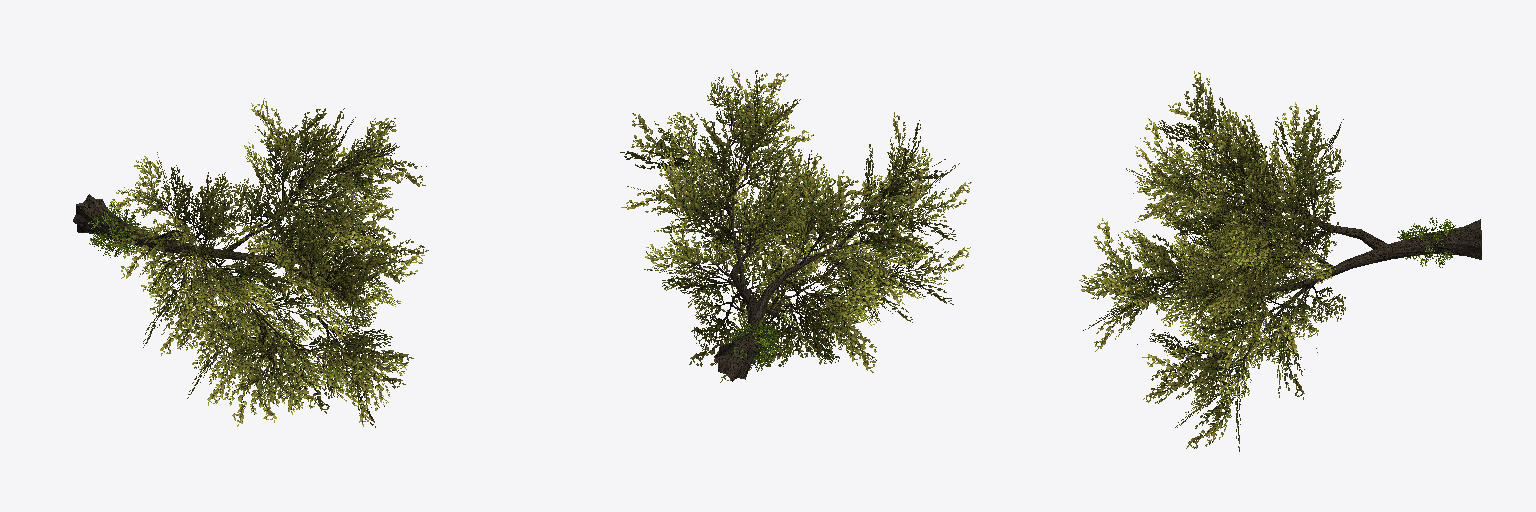
3 renders of one model, left to right at view 1: azimuth 30°, elevation 25°; view 2: azimuth 150°, elevation 25°; view 3: azimuth 270°, elevation 25°, orthographic.
Visible parts, largest first — view 1: Canopy_1_15_-_Default_0, Spline_Branch_E001_14_-_Bark_0, LowPolyTree_Default_OBJ_0; view 2: Canopy_1_15_-_Default_0, Spline_Branch_E001_14_-_Bark_0, LowPolyTree_Default_OBJ_0, Spline_Branch_A001_14_-_Bark_0; view 3: Canopy_1_15_-_Default_0, Spline_Branch_E001_14_-_Bark_0, LowPolyTree_Default_OBJ_0, Spline_Branch_A001_14_-_Bark_0.
Boxes of the visible parts, x1=… form: Canopy_1_15_-_Default_0: x1=106, y1=98, x2=428, y2=427; Spline_Branch_E001_14_-_Bark_0: x1=73, y1=194, x2=318, y2=285; LowPolyTree_Default_OBJ_0: x1=88, y1=202, x2=140, y2=257; Canopy_1_15_-_Default_0: x1=620, y1=69, x2=971, y2=382; Spline_Branch_E001_14_-_Bark_0: x1=714, y1=247, x2=763, y2=381; LowPolyTree_Default_OBJ_0: x1=731, y1=319, x2=781, y2=371; Spline_Branch_A001_14_-_Bark_0: x1=751, y1=223, x2=858, y2=318; Canopy_1_15_-_Default_0: x1=1079, y1=71, x2=1345, y2=451; Spline_Branch_E001_14_-_Bark_0: x1=1227, y1=219, x2=1481, y2=292; LowPolyTree_Default_OBJ_0: x1=1397, y1=217, x2=1457, y2=267; Spline_Branch_A001_14_-_Bark_0: x1=1234, y1=184, x2=1389, y2=249.
Size of the model in its own units: 489 by 486 by 555.
Materials: 3 (3 with a texture image).